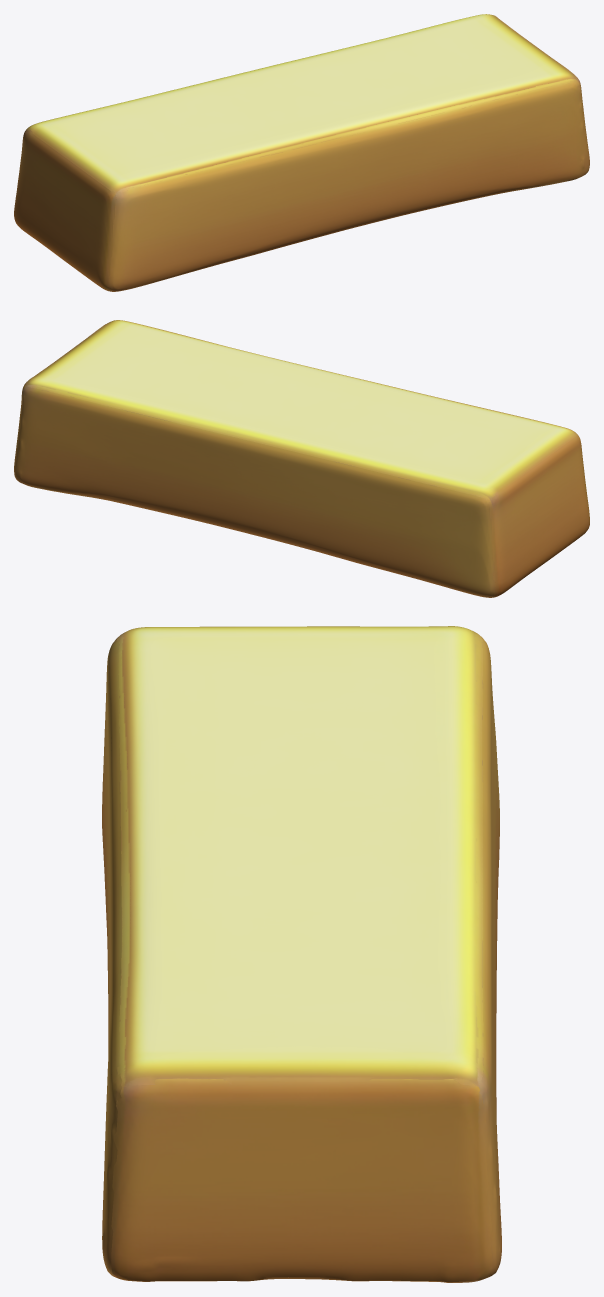
File: gold.fbx
3 renders of one model, top to bottom at view 1: azimuth 30°, elevation 25°; view 2: azimuth 150°, elevation 25°; view 3: azimuth 270°, elevation 25°, orthographic. The views are drawn at different scales.
Visible parts, largest first — view 1: tmpz6nenzey.ply; view 2: tmpz6nenzey.ply; view 3: tmpz6nenzey.ply.
Boxes of the visible parts, x1,y1,x2,y2 form: tmpz6nenzey.ply: [14, 14, 589, 291]; tmpz6nenzey.ply: [14, 320, 589, 597]; tmpz6nenzey.ply: [102, 626, 501, 1282].
Size of the model in its own units: 99.27 by 20.37 by 35.2.
Materials: 1 (1 with a texture image).
